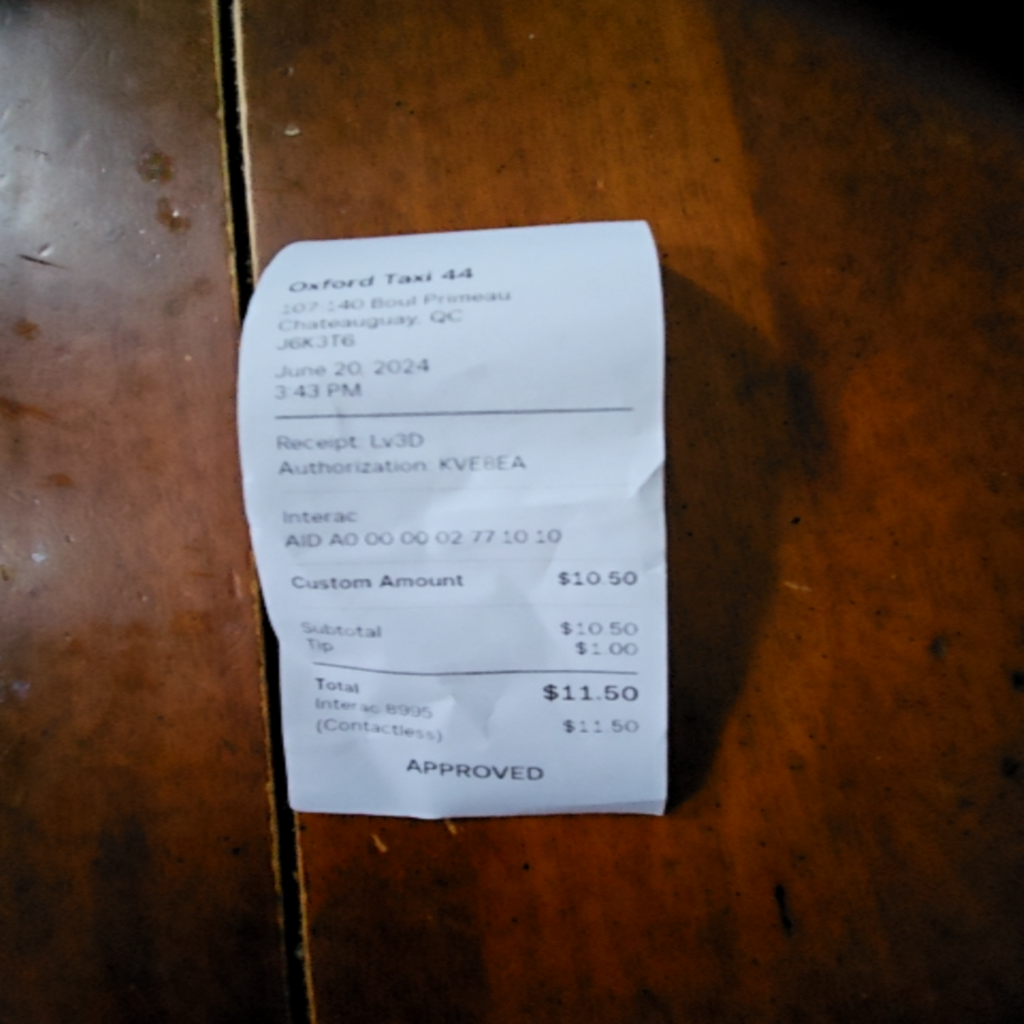recipt: (235, 222, 663, 816)
